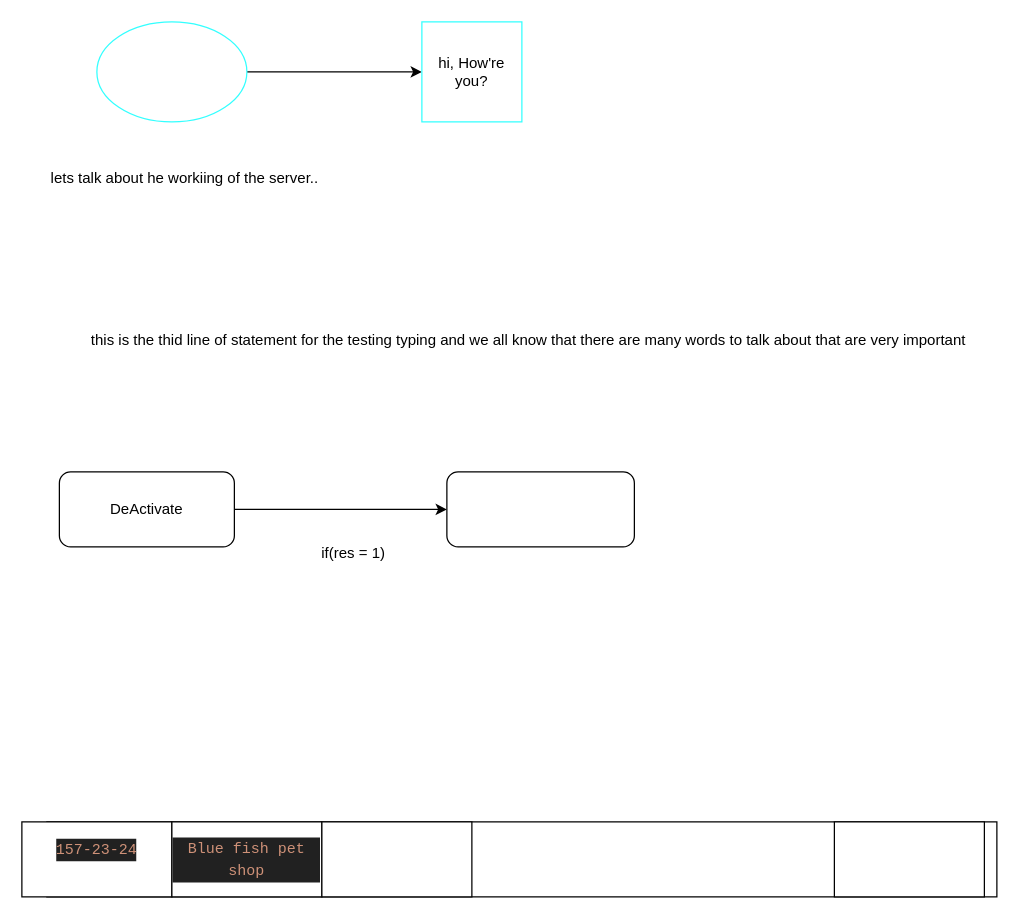
Image size: 1019x919. Some labels were removed from this diagram. Each missing label, with the centre of its shape:
ReActivate: point 540,509
Start: point 171,71
